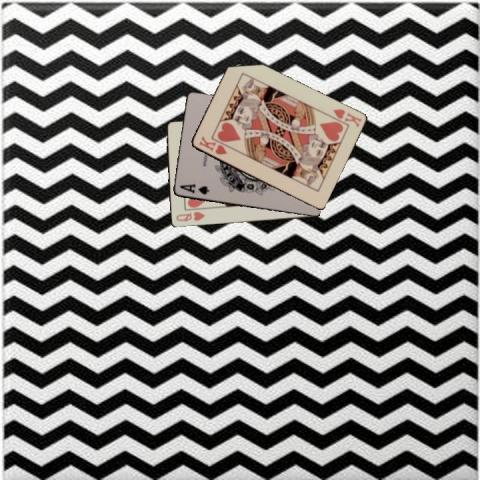As: (176, 181, 211, 196)
Kh: (195, 133, 229, 156), (329, 106, 363, 129)
Qh: (173, 208, 206, 222)
